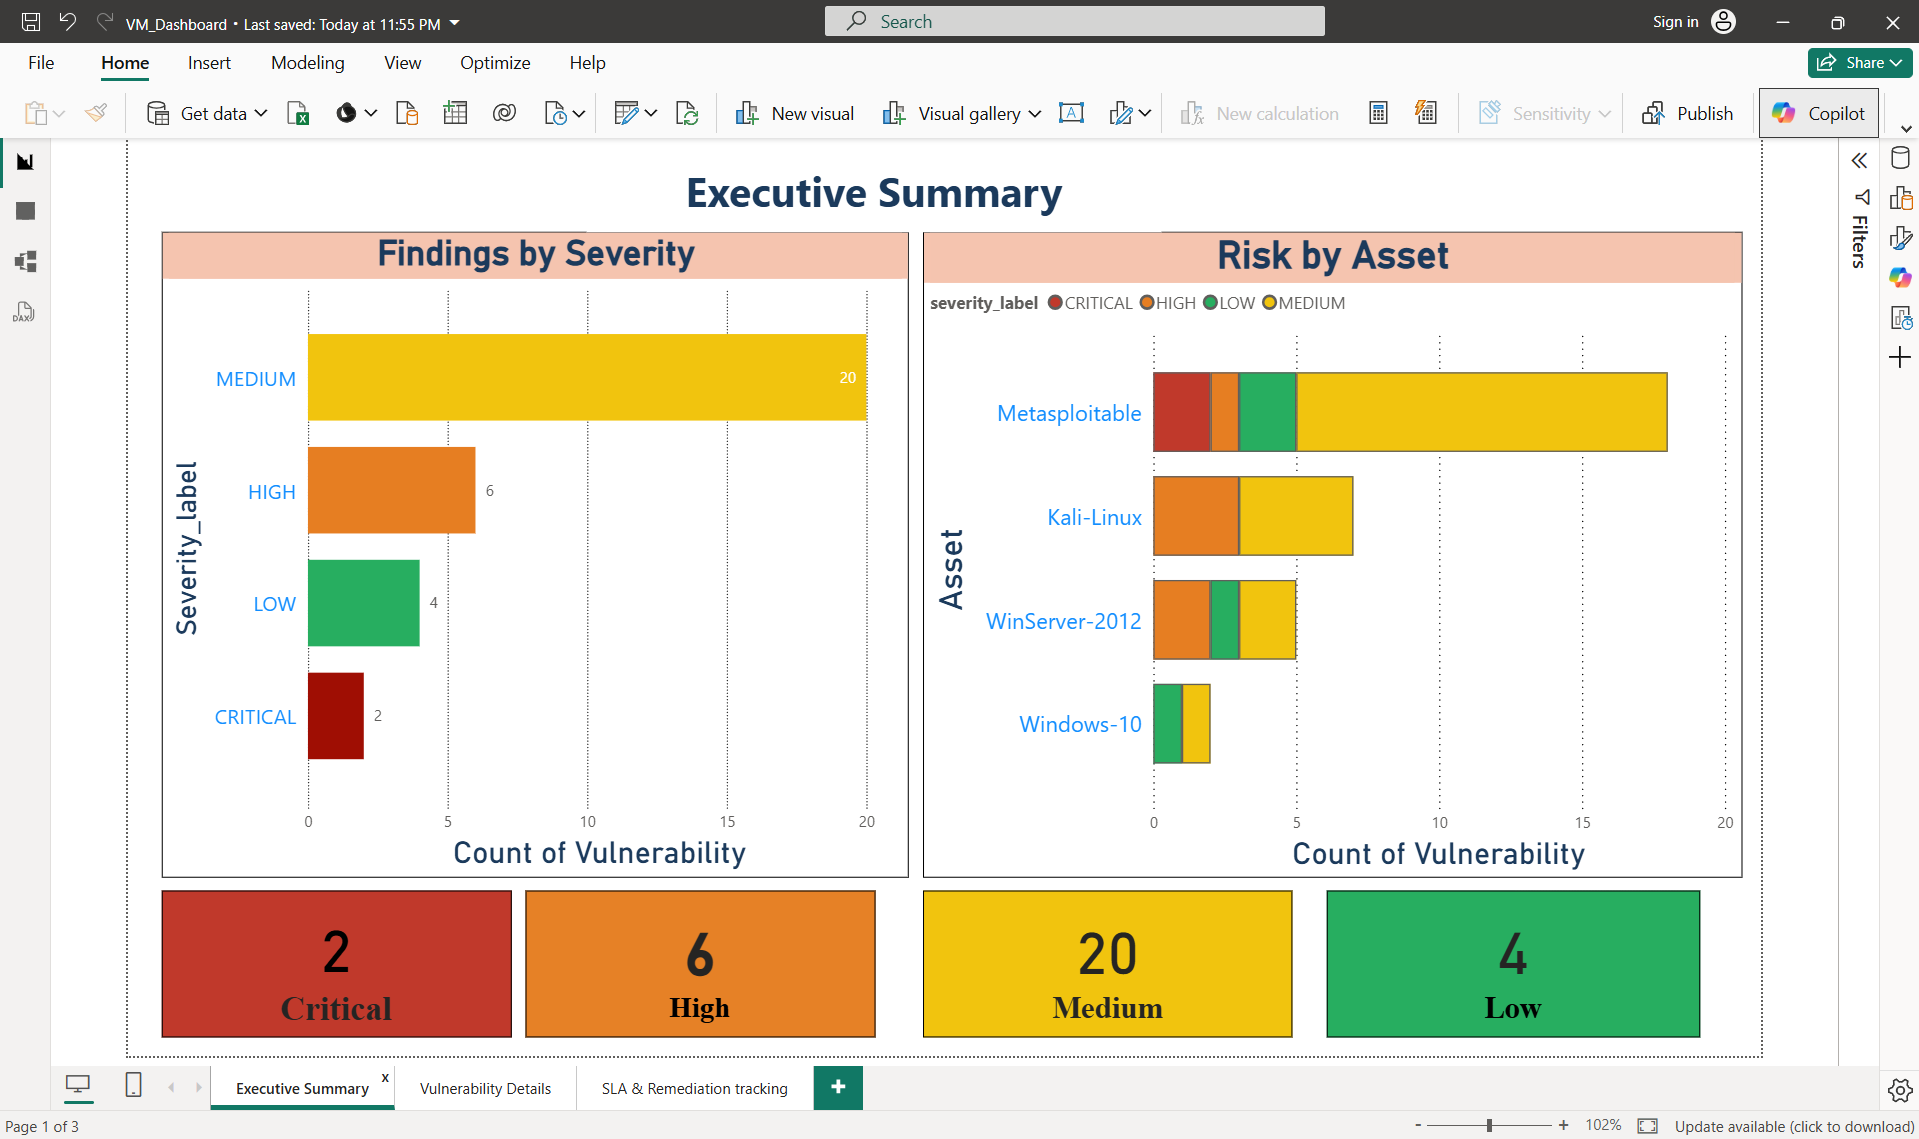

Layout of this report page (visuals, bound fields, positions):
{"tool":"powerbi","page":{"name":"Executive Summary","canvas":[1280,720],"ordinal":0},"visuals":[{"type":"card","fields":{"Values":["cve_findings.Critical"]},"box":[26,590.1,274.1,115.4],"z":0},{"type":"card","fields":{"Values":["cve_findings.Medium"]},"box":[623.3,590.1,290,115.4],"z":1000},{"type":"card","fields":{"Values":["cve_findings.High"]},"box":[311.6,590.1,274.1,115.4],"z":2000},{"type":"card","fields":{"Values":["cve_findings.Low"]},"box":[939.2,590.1,292.9,115.4],"z":3000},{"type":"clusteredBarChart","title":"Findings by Severity ","fields":{"Category":["cve_findings.severity_label"],"Y":["CountNonNull(cve_findings.Vulnerability)"]},"box":[26,73.6,585.8,506.4],"z":4000},{"type":"barChart","title":"Risk by Asset ","fields":{"Category":["cve_findings.Asset"],"Y":["CountNonNull(cve_findings.Vulnerability)"],"Series":["cve_findings.severity_label"]},"box":[623.3,73.6,642,506.4],"z":5000},{"type":"textbox","box":[359.2,14.4,450.1,59.2],"z":6000}]}

Visuals, with their boxes on the page's 1280x720 design canvas (x1, y1, x2, y2). These are canvas units, not pixel positions in the 1919x1139 screenshot, which may show the page scaled, cropped or inside an application window:
card - cve_findings.Critical: <box>26,590,300,706</box>
card - cve_findings.Medium: <box>623,590,913,706</box>
card - cve_findings.High: <box>312,590,586,706</box>
card - cve_findings.Low: <box>939,590,1232,706</box>
"Findings by Severity " clusteredBarChart: <box>26,74,612,580</box>
"Risk by Asset " barChart: <box>623,74,1265,580</box>
textbox: <box>359,14,809,74</box>
